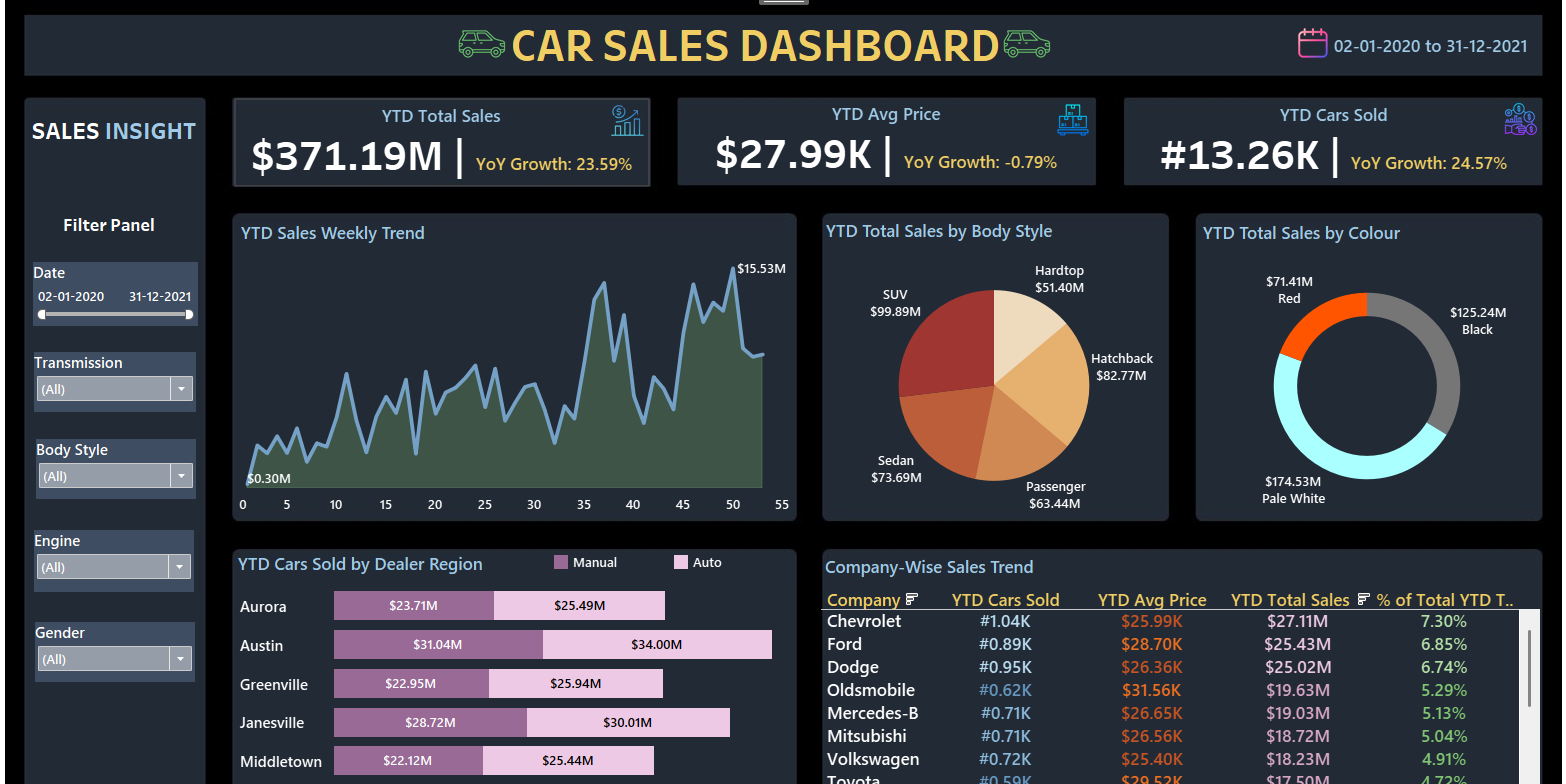

This screenshot's page, from the dashboard's own definition file:
{"tool":"tableau","page":{"name":"Dashboard 1","canvas":[1600,900],"ordinal":0},"visuals":[{"type":"image","param":"Image/Car Sales Background.jpg","box":[8,8,1584,884]},{"type":"text","box":[523,28,497,58]},{"type":"image","param":"Image/Car Icon.png","box":[458,30,79,55]},{"type":"image","param":"Image/Car Icon.png","box":[1012,30,62,55]},{"type":"image","param":"Image/calendar.png","box":[1312,40,33,33]},{"type":"worksheet","title":"Date Range","mark":"Automatic","box":[1341,42,213,36]},{"type":"worksheet","title":"YTD Average Price","mark":"Automatic","box":[695,113,416,83]},{"type":"worksheet","title":"YTD Total Sales","mark":"Automatic","box":[252,114,412,85]},{"type":"worksheet","title":"YTD Cars Sold","mark":"Automatic","box":[1142,114,416,83]},{"type":"image","param":"Image/Sales Icon.png","box":[625,115,36,38]},{"type":"image","param":"Image/Cars Sold Icon.png","box":[1520,116,33,34]},{"type":"image","param":"Image/Avg Price Icon.png","box":[1072,117,34,33]},{"type":"text","box":[44,129,172,30]},{"type":"text","box":[75,223,100,30]},{"type":"worksheet","title":"YTD Total Sales by Body Style","mark":"Pie","box":[838,229,344,303]},{"type":"worksheet","title":"YTD Sales Weekly Trend","mark":"Area","rows":["Calculation_310748392764178432","Calculation_310748392764178432"],"cols":["Date"],"box":[253,231,555,301]},{"type":"worksheet","title":"YTD Total Sales by Colour","mark":"Pie","rows":["Calculation_373798788090638337","Calculation_373798788090667011"],"box":[1215,231,336,300]},{"type":"filter","title":"YTD Sales Weekly Trend","param":"[federated.0h7w0k70ok1wbu19vqwgo1g9cqlo].[none:Date:qk]","box":[49,276,165,64]},{"type":"filter","title":"YTD Sales Weekly Trend","param":"[federated.0h7w0k70ok1wbu19vqwgo1g9cqlo].[none:Transmission:nk]","box":[50,366,162,60]},{"type":"filter","title":"YTD Sales Weekly Trend","param":"[federated.0h7w0k70ok1wbu19vqwgo1g9cqlo].[none:Body Style:nk]","box":[52,453,160,60]},{"type":"filter","title":"YTD Sales Weekly Trend","param":"[federated.0h7w0k70ok1wbu19vqwgo1g9cqlo].[none:Engine:nk]","box":[50,544,160,62]},{"type":"worksheet","title":"YTD Cars Sold by Dealer Region","mark":"Automatic","rows":["Dealer_Region"],"cols":["Calculation_310748392764178432"],"box":[250,562,560,310]},{"type":"worksheet","title":"Company-Wise Sales Trend","mark":"Automatic","rows":["Company"],"box":[837,565,719,304]},{"type":"legend","title":"YTD Cars Sold by Dealer Region","param":"[federated.0h7w0k70ok1wbu19vqwgo1g9cqlo].[none:Transmission:nk]","box":[567,566,243,31]},{"type":"filter","title":"YTD Sales Weekly Trend","param":"[federated.0h7w0k70ok1wbu19vqwgo1g9cqlo].[none:Gender:nk]","box":[51,636,160,60]}]}

Visuals, with their boxes on the page's 1600x900 design canvas (x1, y1, x2, y2). These are canvas units, not pixel positions in the 1566x784 screenshot, which may show the page scaled, cropped or inside an application window:
image: box(8, 8, 1592, 892)
text: box(523, 28, 1020, 86)
image: box(458, 30, 537, 85)
image: box(1012, 30, 1074, 85)
image: box(1312, 40, 1345, 73)
"Date Range" worksheet: box(1341, 42, 1554, 78)
"YTD Average Price" worksheet: box(695, 113, 1111, 196)
"YTD Total Sales" worksheet: box(252, 114, 664, 199)
"YTD Cars Sold" worksheet: box(1142, 114, 1558, 197)
image: box(625, 115, 661, 153)
image: box(1520, 116, 1553, 150)
image: box(1072, 117, 1106, 150)
text: box(44, 129, 216, 159)
text: box(75, 223, 175, 253)
"YTD Total Sales by Body Style" worksheet (Pie marks): box(838, 229, 1182, 532)
"YTD Sales Weekly Trend" worksheet (Area marks): box(253, 231, 808, 532)
"YTD Total Sales by Colour" worksheet (Pie marks): box(1215, 231, 1551, 531)
"YTD Sales Weekly Trend" filter: box(49, 276, 214, 340)
"YTD Sales Weekly Trend" filter: box(50, 366, 212, 426)
"YTD Sales Weekly Trend" filter: box(52, 453, 212, 513)
"YTD Sales Weekly Trend" filter: box(50, 544, 210, 606)
"YTD Cars Sold by Dealer Region" worksheet: box(250, 562, 810, 872)
"Company-Wise Sales Trend" worksheet: box(837, 565, 1556, 869)
"YTD Cars Sold by Dealer Region" legend: box(567, 566, 810, 597)
"YTD Sales Weekly Trend" filter: box(51, 636, 211, 696)
